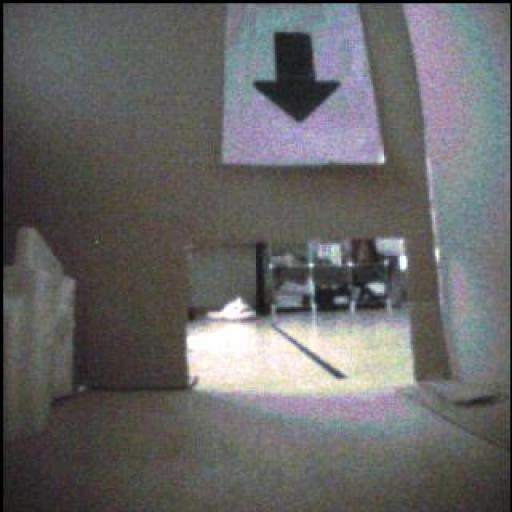arrow: (256, 33, 341, 123)
